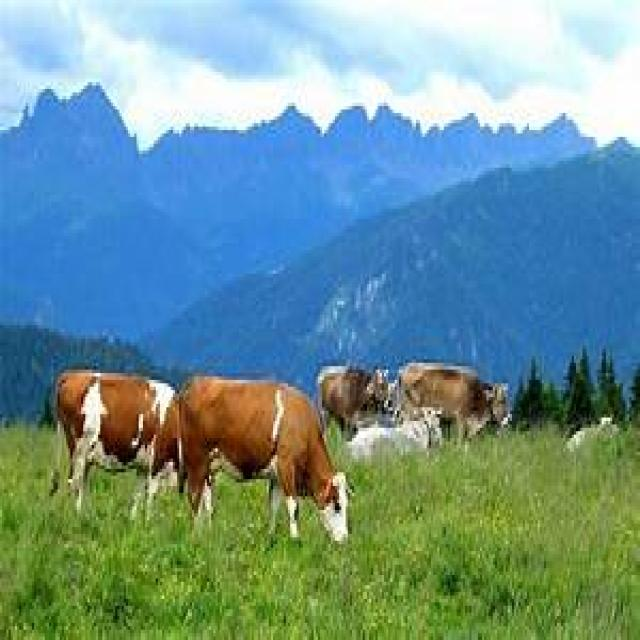cow: (160, 376, 348, 544), (49, 370, 175, 513), (401, 363, 510, 441), (318, 366, 397, 441)
